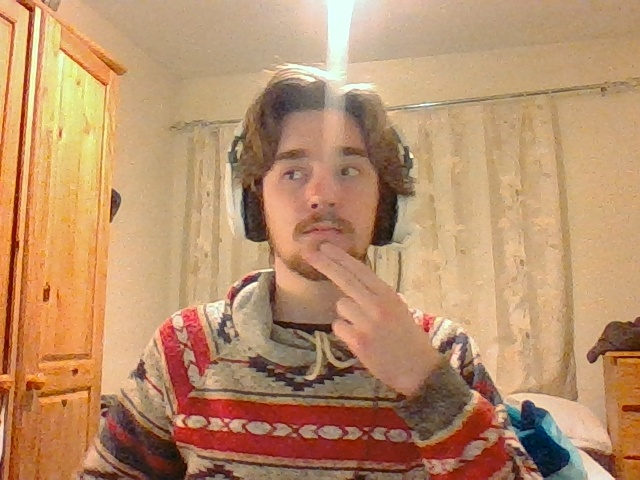afternoon: (299, 239, 439, 392)
